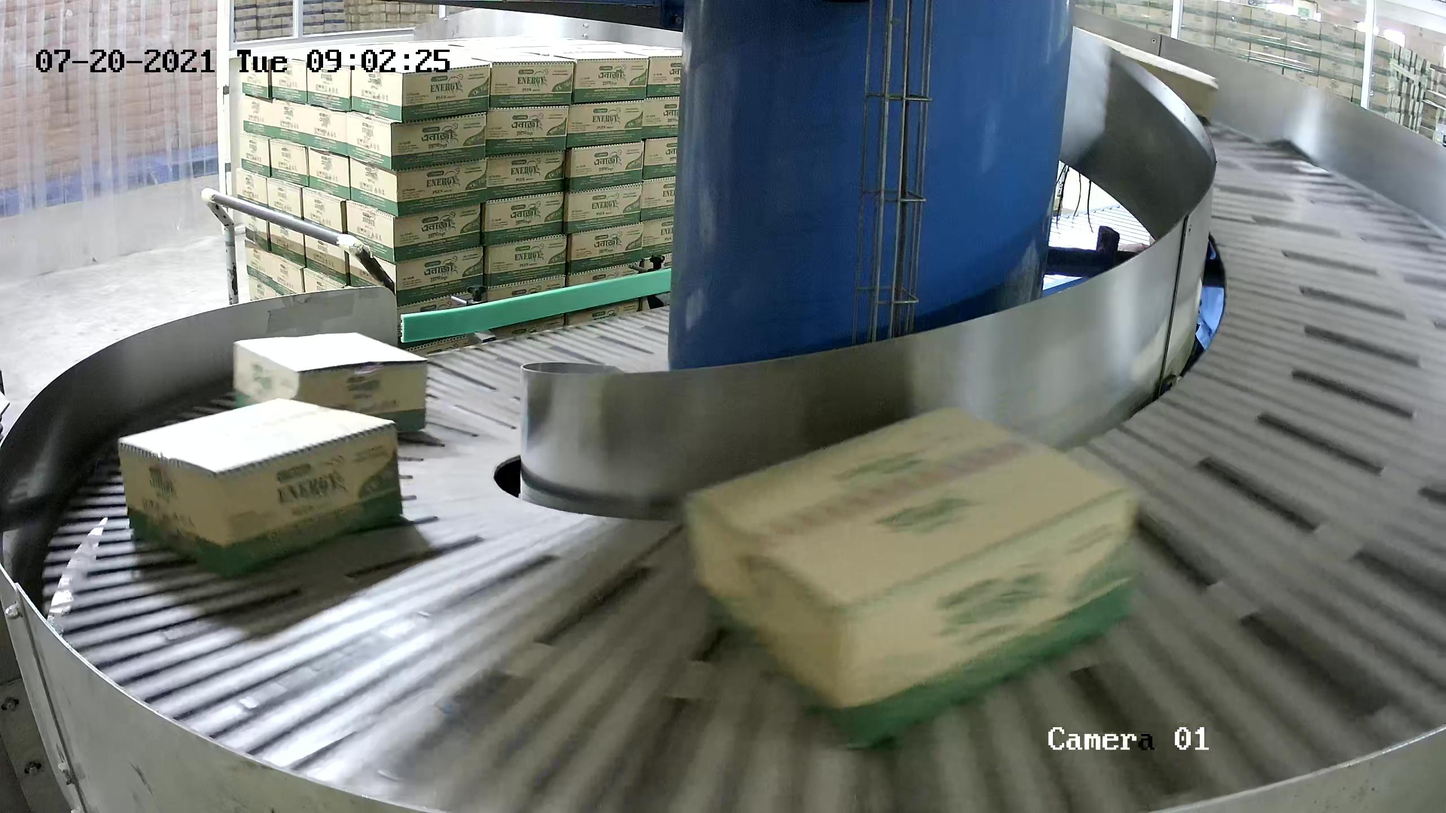Box: (680, 401, 1141, 753), (117, 395, 408, 582), (230, 327, 429, 445)
